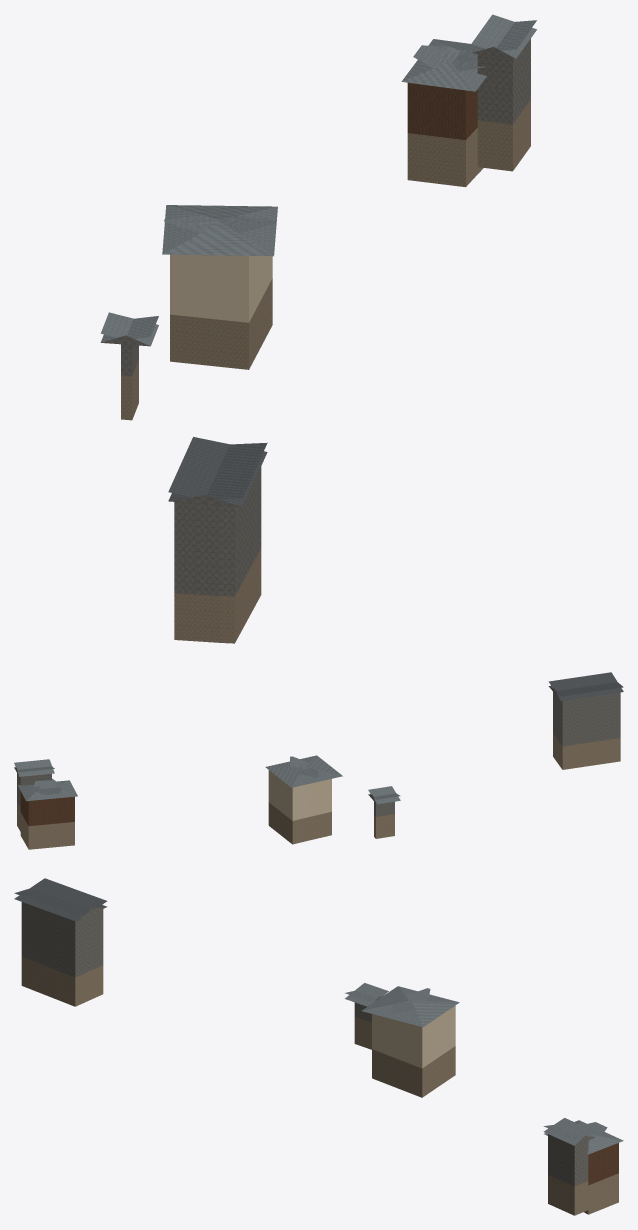
File: bld_c14_36_410.gltf
The picture shows the model from 3 angles, top to bottom: view 1: azimuth 30°, elevation 25°; view 2: azimuth 150°, elevation 25°; view 3: azimuth 270°, elevation 25°; orthographic projection. The views are drawn at different scales.
Visible parts, largest first — view 1: bld_c14_36_410; view 2: bld_c14_36_410; view 3: bld_c14_36_410.
Part boxes in pixels (x1,y1,x2,y2): bld_c14_36_410: [100, 14, 536, 643]; bld_c14_36_410: [14, 672, 623, 849]; bld_c14_36_410: [14, 878, 623, 1215].
Size of the model in its own units: 90.13 by 17.9 by 96.27.
7 materials, 7 textured.
